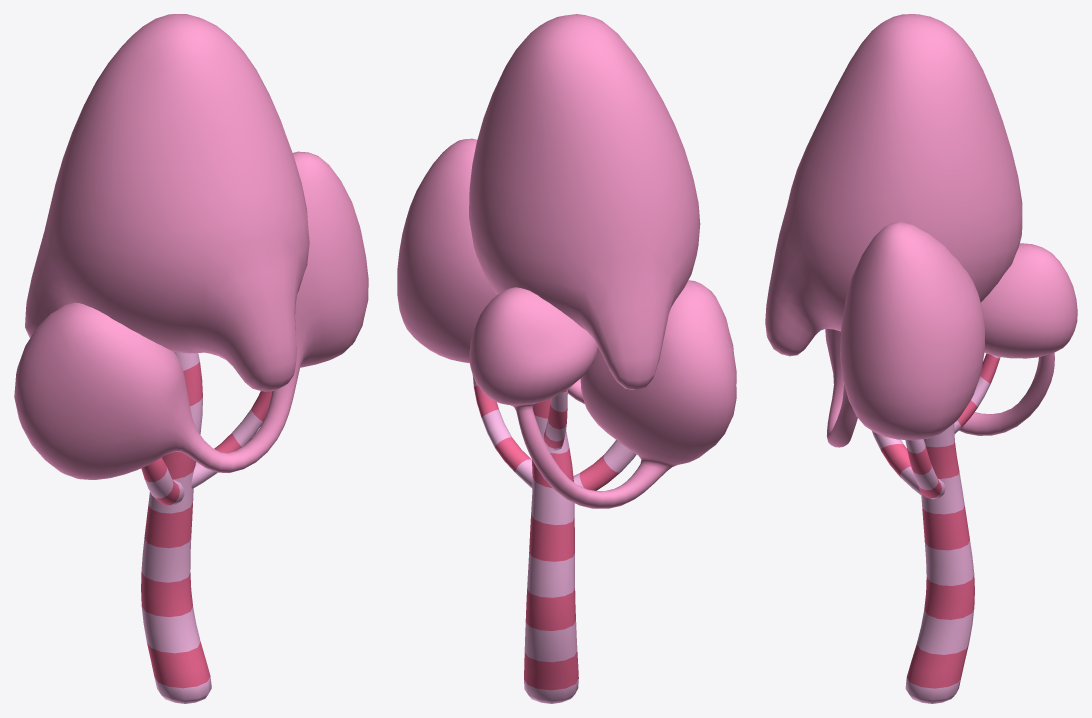
File: Tree_CottonCandy_02.fbx
3 views of the same model, side by side, from view 1: azimuth 30°, elevation 25°; view 2: azimuth 150°, elevation 25°; view 3: azimuth 270°, elevation 25° (orthographic). The views are drawn at different scales.
Parts seen in each view (by area): view 1: Tree_CottonCandy_02_LOD0; view 2: Tree_CottonCandy_02_LOD0; view 3: Tree_CottonCandy_02_LOD0.
Boxes of the visible parts, x1,y1,x2,y2 form: Tree_CottonCandy_02_LOD0: (14,14,368,703); Tree_CottonCandy_02_LOD0: (397,14,736,703); Tree_CottonCandy_02_LOD0: (765,14,1077,703).
Size of what is drawn, in the model's own units: 781 by 1531 by 645.
